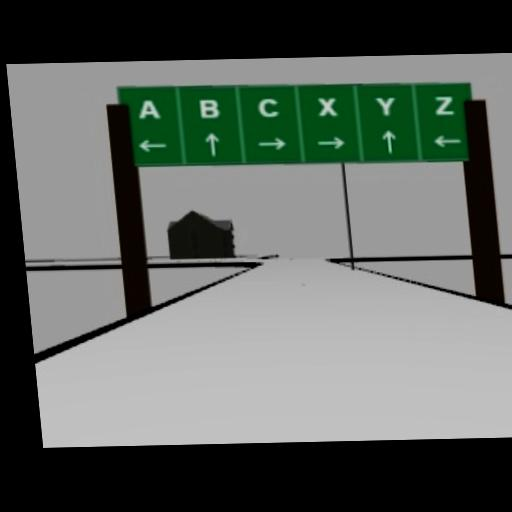A: (135, 98, 160, 120)
B: (197, 98, 219, 119)
C: (256, 97, 279, 118)
Left: (136, 139, 168, 153), (433, 134, 462, 147)
Right: (315, 136, 346, 150), (257, 136, 287, 150)
Straight: (204, 131, 221, 156), (380, 130, 397, 154)
X: (316, 96, 338, 116)
Y: (374, 96, 397, 117)
Z: (432, 95, 454, 116)
